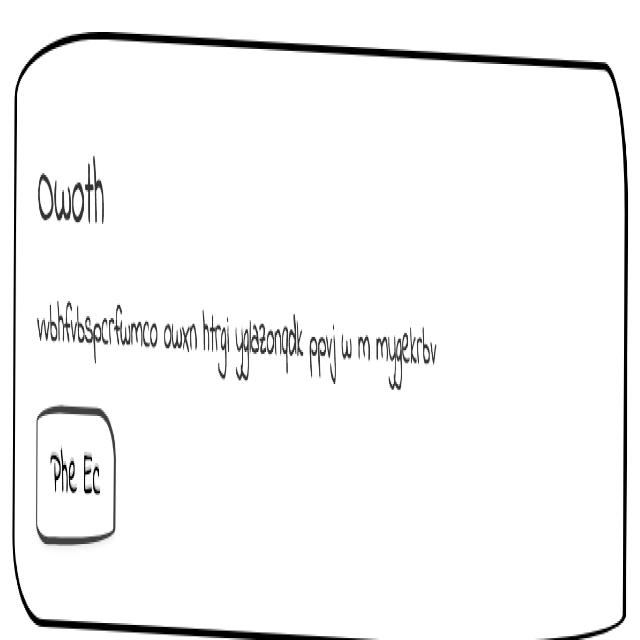Button: (30, 408, 131, 558)
Heading 6: (35, 148, 129, 254)
Paragraph: (30, 285, 463, 407)
